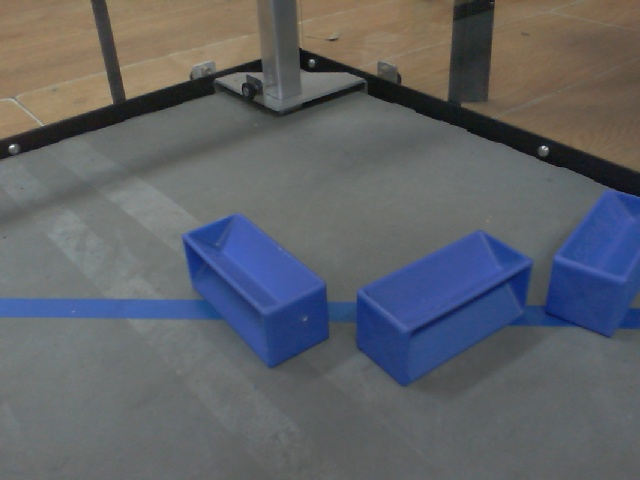BlueSample: (349, 223, 540, 390), (178, 211, 334, 371), (545, 181, 640, 346)
